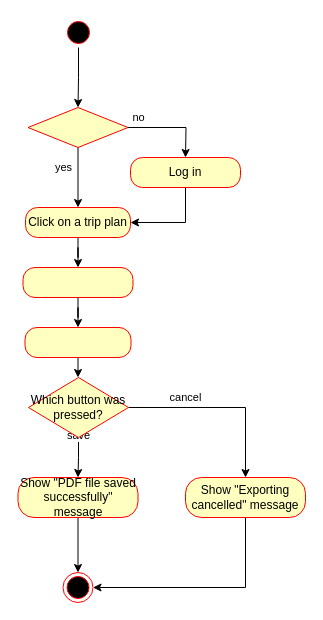
Image size: 323x620. Some labels were removed from this diagram. The centre of each missing label's shape, as x and y in pixels:
Click on the "export" button: [77,342]
Logged in?: [77,127]
View a daily plan: [77,282]
